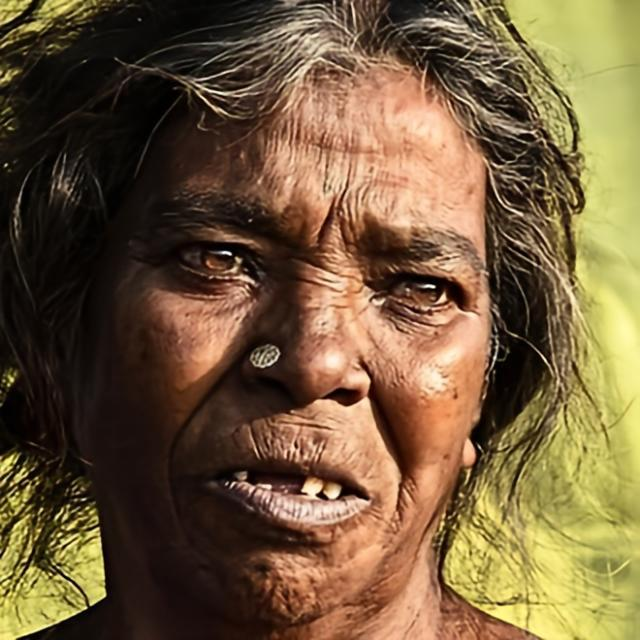sad: (70, 57, 492, 628)
